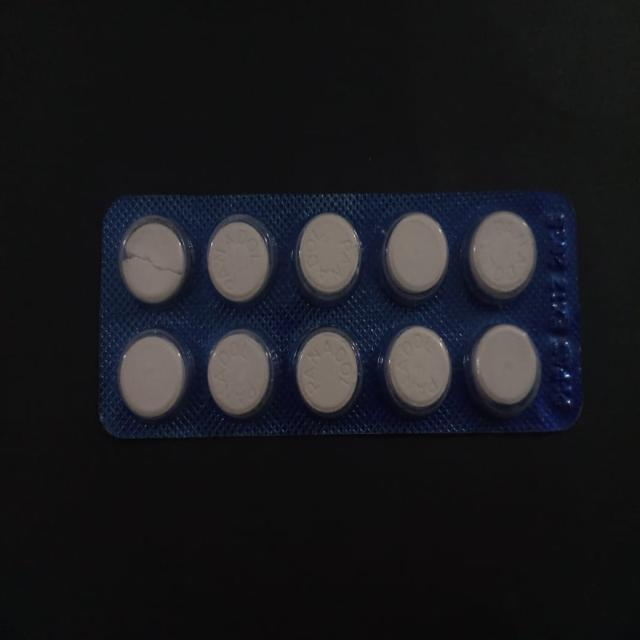defect: (117, 212, 194, 310)
